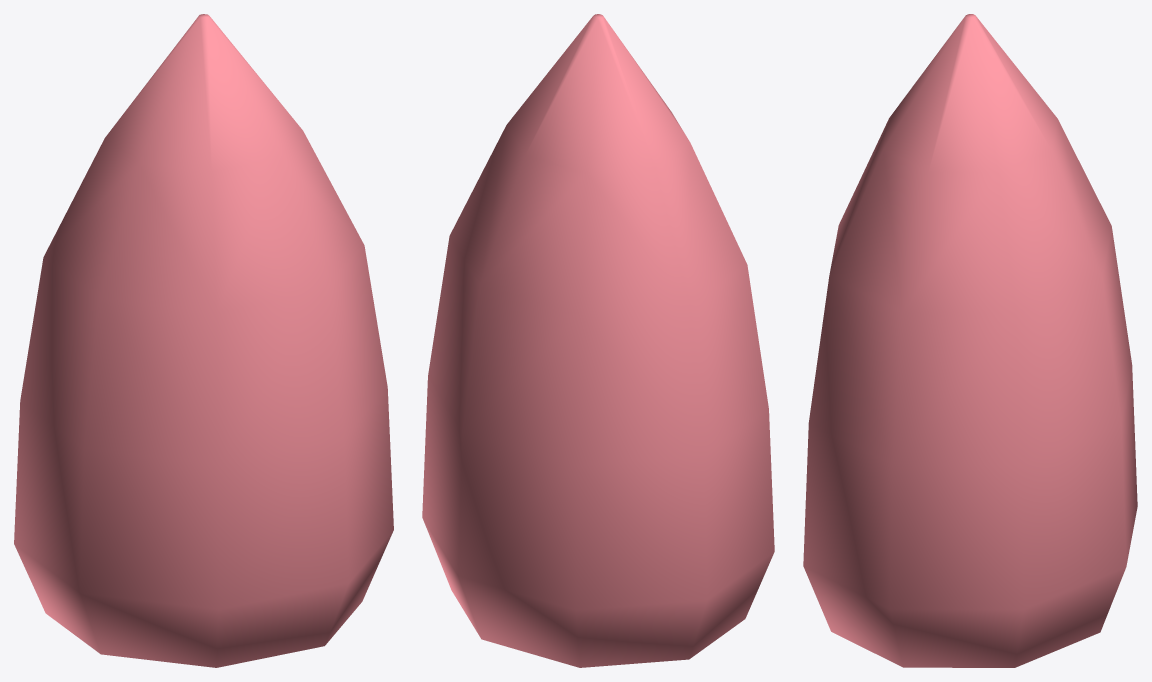
Rendered from Brush Blender Sponge-tCLkW2n6EI.glb.
3 views of the same model, side by side, from view 1: azimuth 30°, elevation 25°; view 2: azimuth 150°, elevation 25°; view 3: azimuth 270°, elevation 25° (orthographic).
Parts seen in each view (by area): view 1: brush_blender_sponge.002; view 2: brush_blender_sponge.002; view 3: brush_blender_sponge.002.
Part boxes in pixels (x1,y1,x2,y2): brush_blender_sponge.002: (14,14,393,667); brush_blender_sponge.002: (422,14,774,667); brush_blender_sponge.002: (803,14,1137,667).
Bounding box in the file's own units: 8.05 × 16.19 × 7.76.
Materials: 1 (1 with a texture image).
